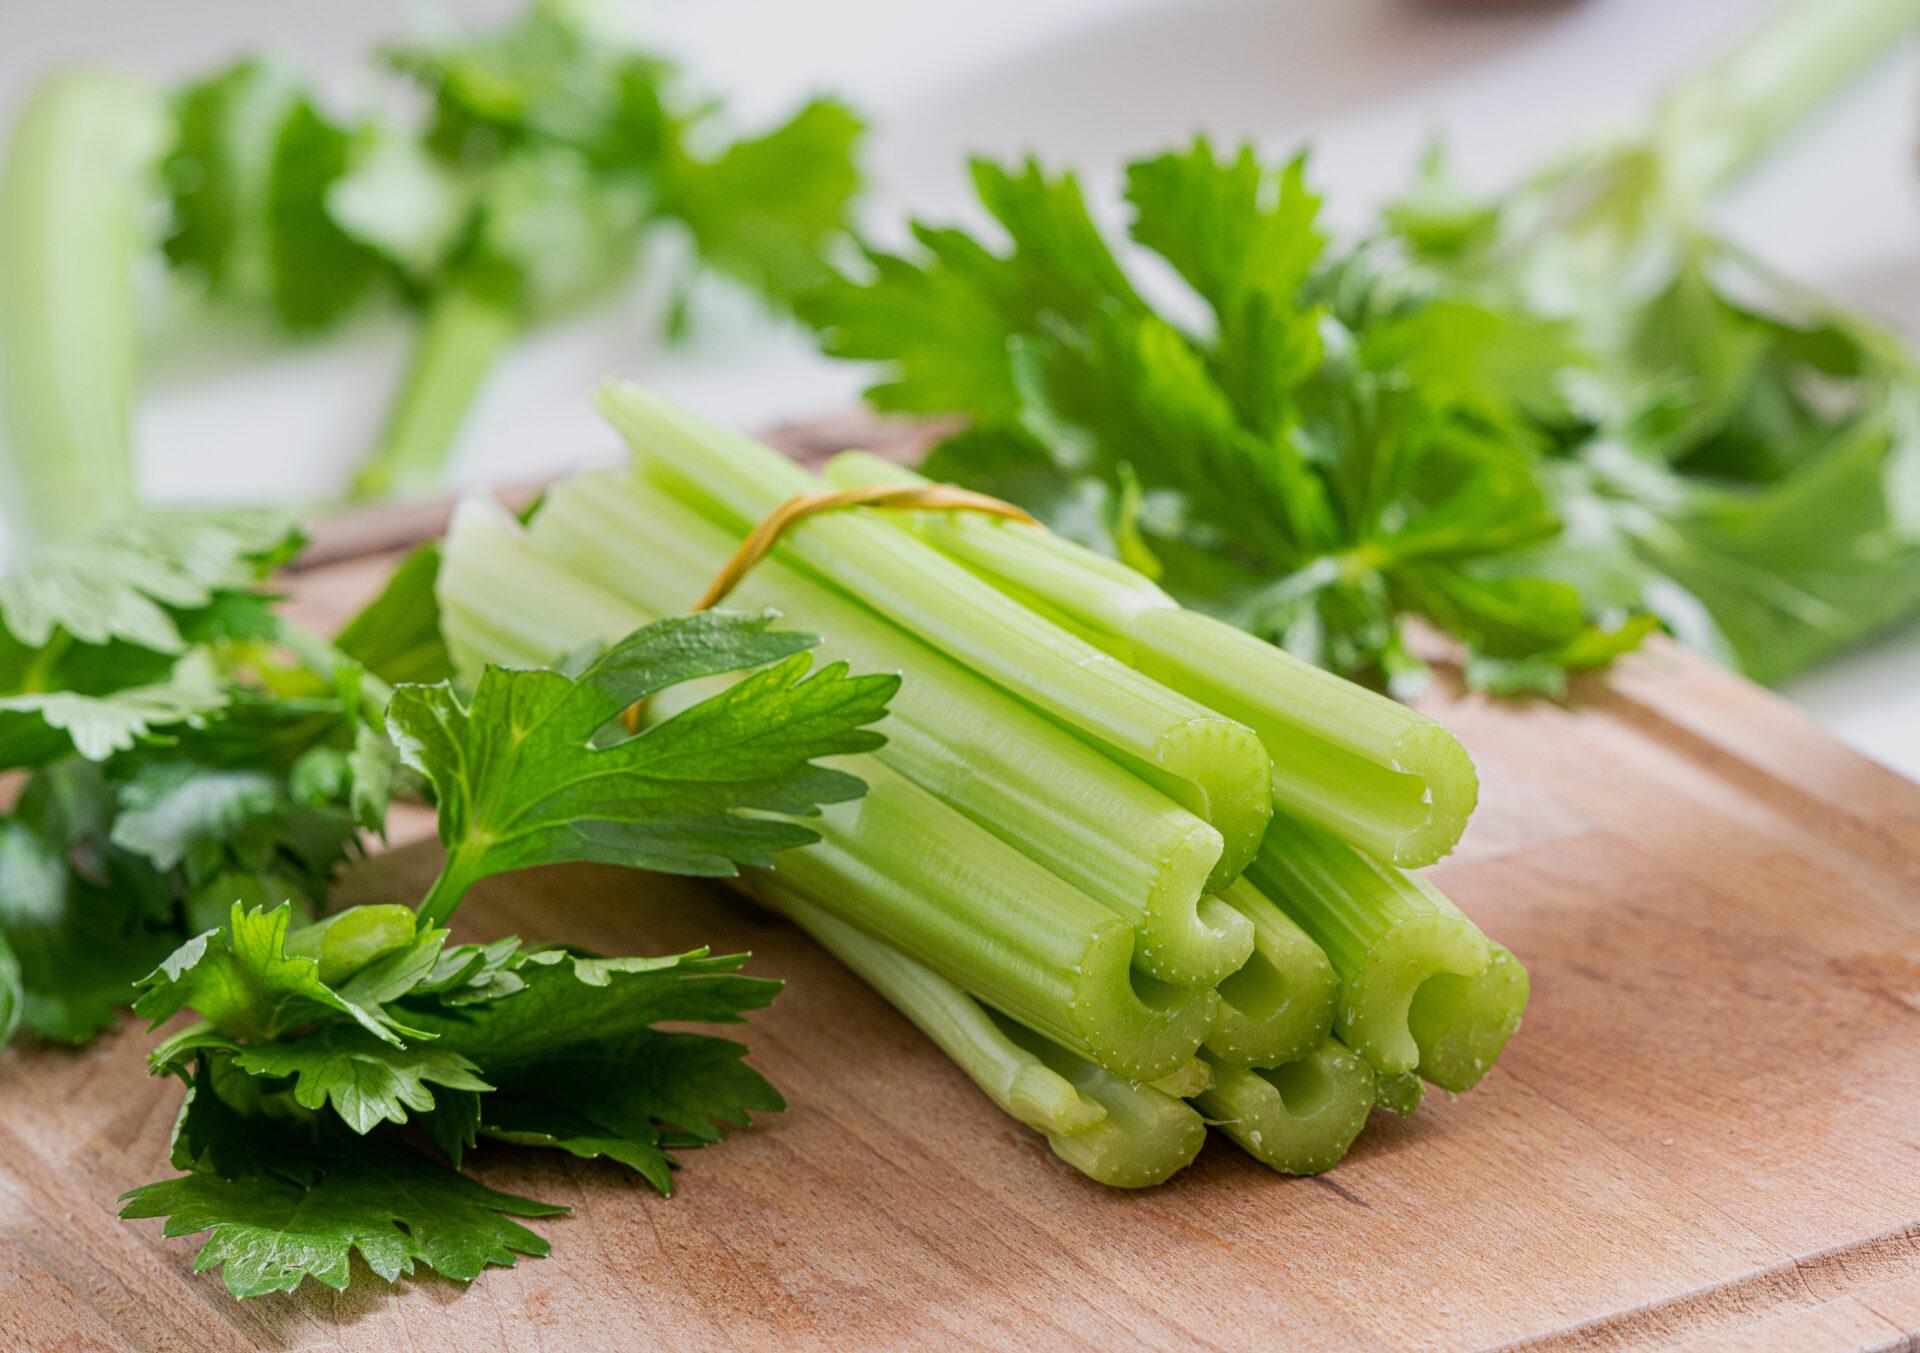Seledri: (368, 436, 1621, 1218)
